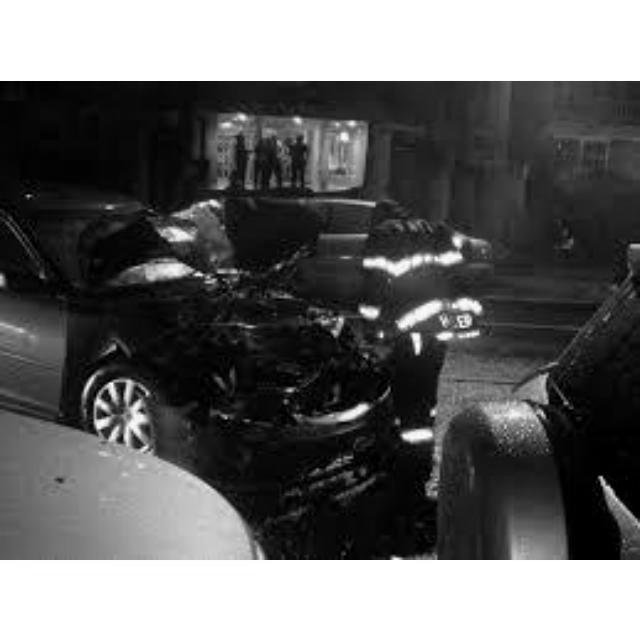bonnet-dent: (177, 251, 359, 339)
